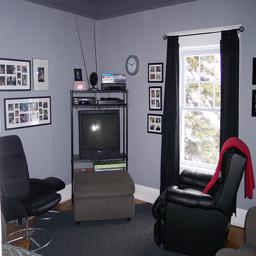chair: (1, 169, 130, 256), (162, 176, 256, 256), (217, 220, 256, 256)
tvmonitor: (153, 160, 237, 236)
